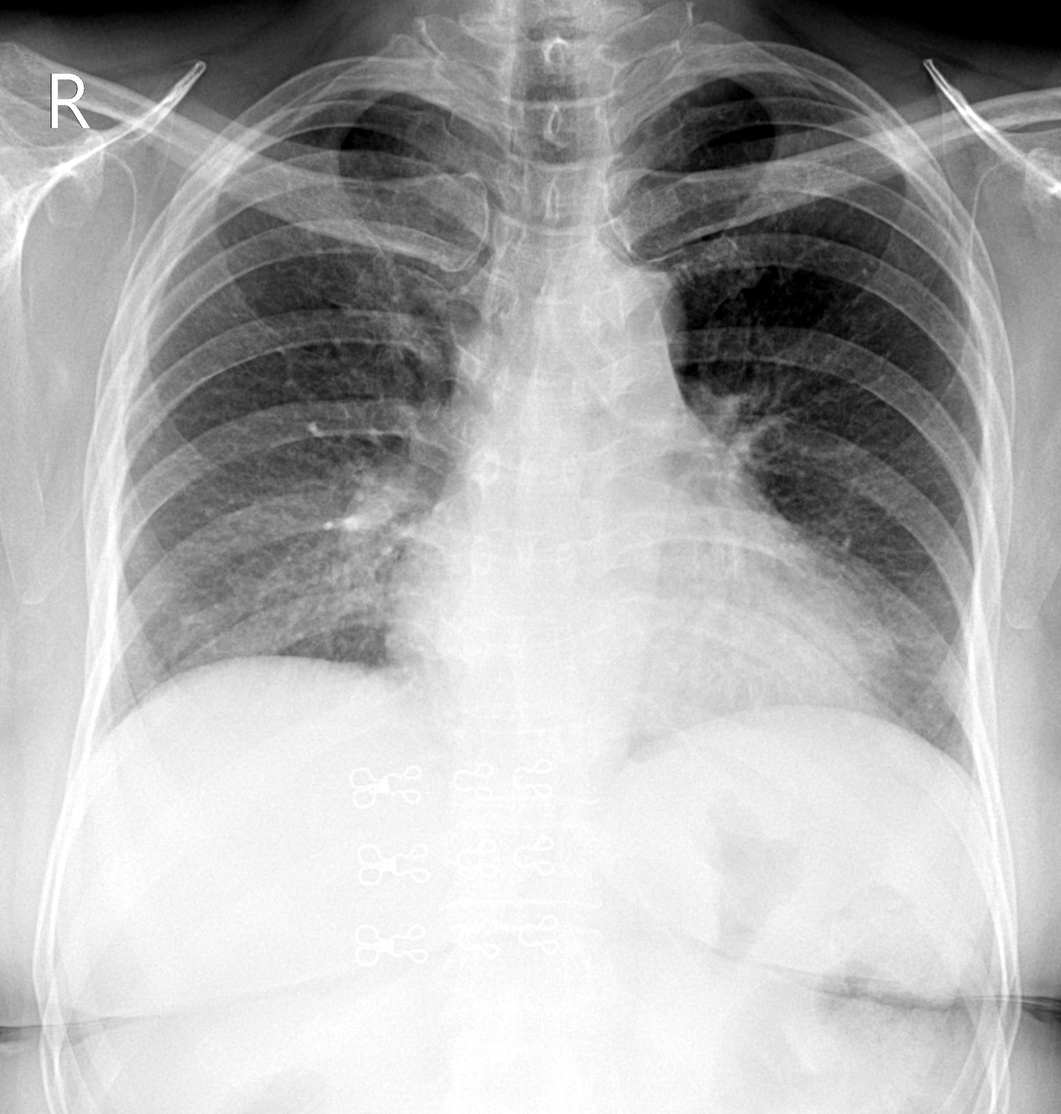Aortic enlargement: (567, 258, 691, 369)
Cardiomegaly: (380, 591, 880, 701)
